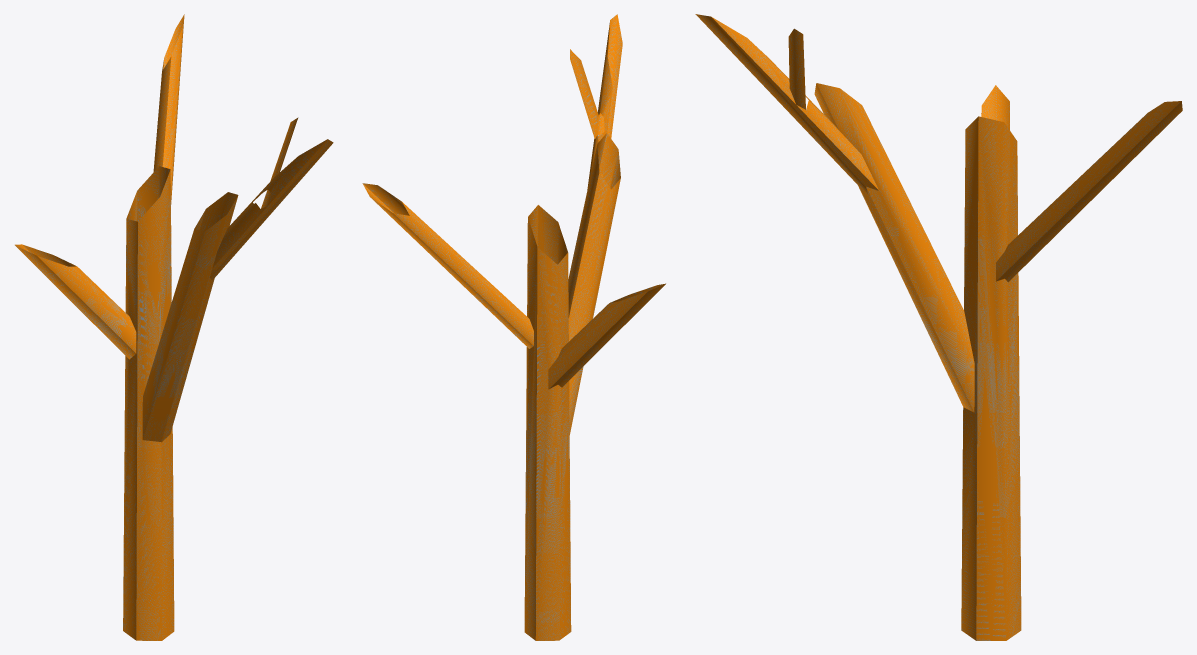
File: Rowan_tree(orange).obj
3 renders of one model, left to right at view 1: azimuth 30°, elevation 25°; view 2: azimuth 150°, elevation 25°; view 3: azimuth 270°, elevation 25°, orthographic. The views are drawn at different scales.
Visible parts, largest first — view 1: Mesh1 Group1 Model; view 2: Mesh1 Group1 Model; view 3: Mesh1 Group1 Model.
Boxes of the visible parts, x1=… form: Mesh1 Group1 Model: x1=15, y1=14, x2=333, y2=640; Mesh1 Group1 Model: x1=362, y1=14, x2=665, y2=640; Mesh1 Group1 Model: x1=695, y1=14, x2=1182, y2=640.
Size of the model in its own units: 1281 by 2769 by 1893.
